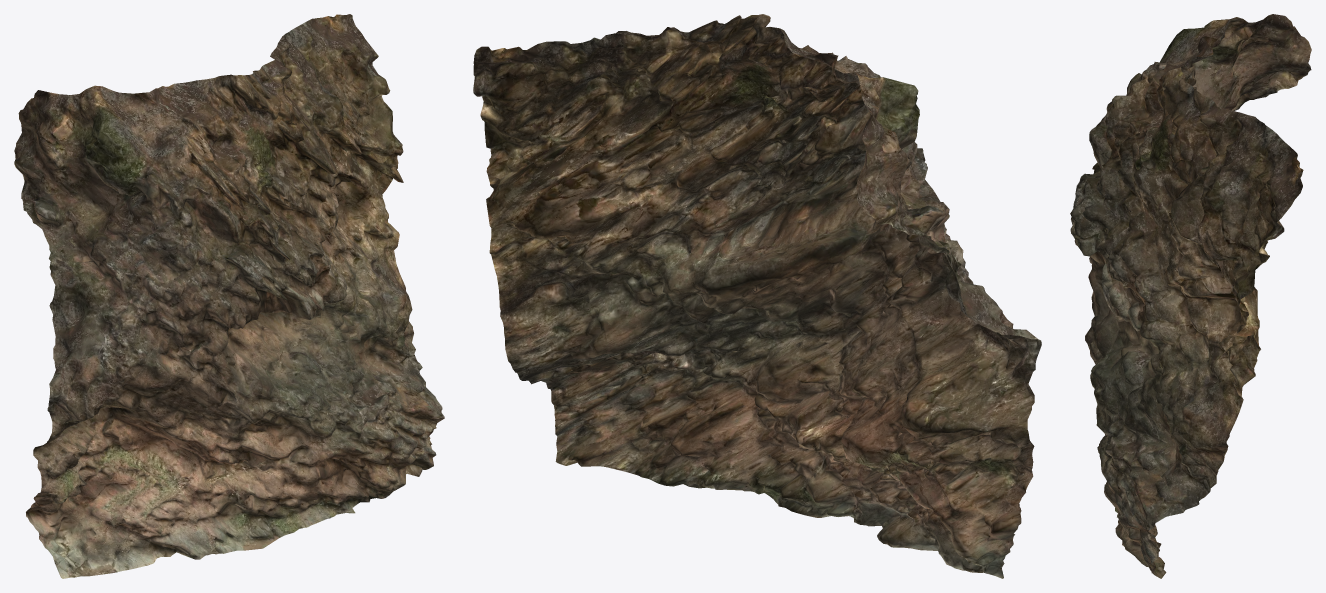
The model's file is mountainside.glb.
3 renders of one model, left to right at view 1: azimuth 30°, elevation 25°; view 2: azimuth 150°, elevation 25°; view 3: azimuth 270°, elevation 25°, orthographic. The views are drawn at different scales.
Parts seen in each view (by area): view 1: mountainside; view 2: mountainside; view 3: mountainside.
Boxes of the visible parts, bbox=[...] form: mountainside: bbox=[14, 14, 444, 578]; mountainside: bbox=[473, 14, 1041, 578]; mountainside: bbox=[1070, 14, 1311, 578].
Bounding box in the file's own units: 10.21 × 10.52 × 5.25.
Materials: 1 (1 with a texture image).
